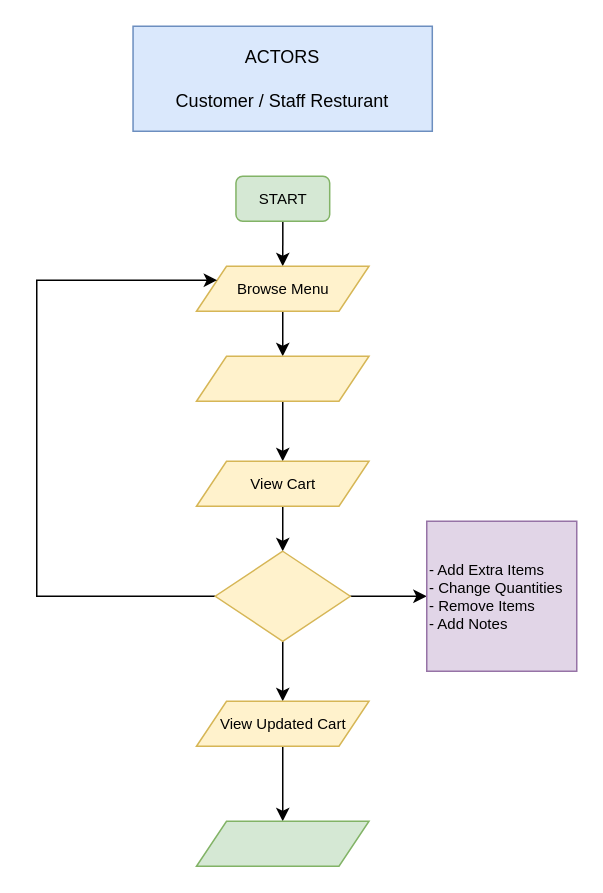
The diagram is 603 pixels wide and 893 high, and some of its shapes have lost their labels. The shapes that lost their labels are listed below. From the top down, each one's centre as x and y in pixels, then its label:
At point 282,378: "Add Items".
At point 282,595: "Modify Cart".
At point 282,843: "END".
